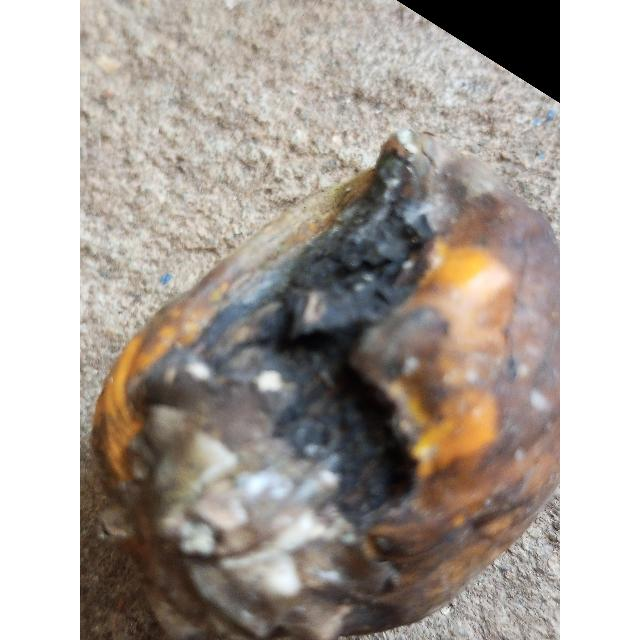damaged: (89, 131, 560, 640)
